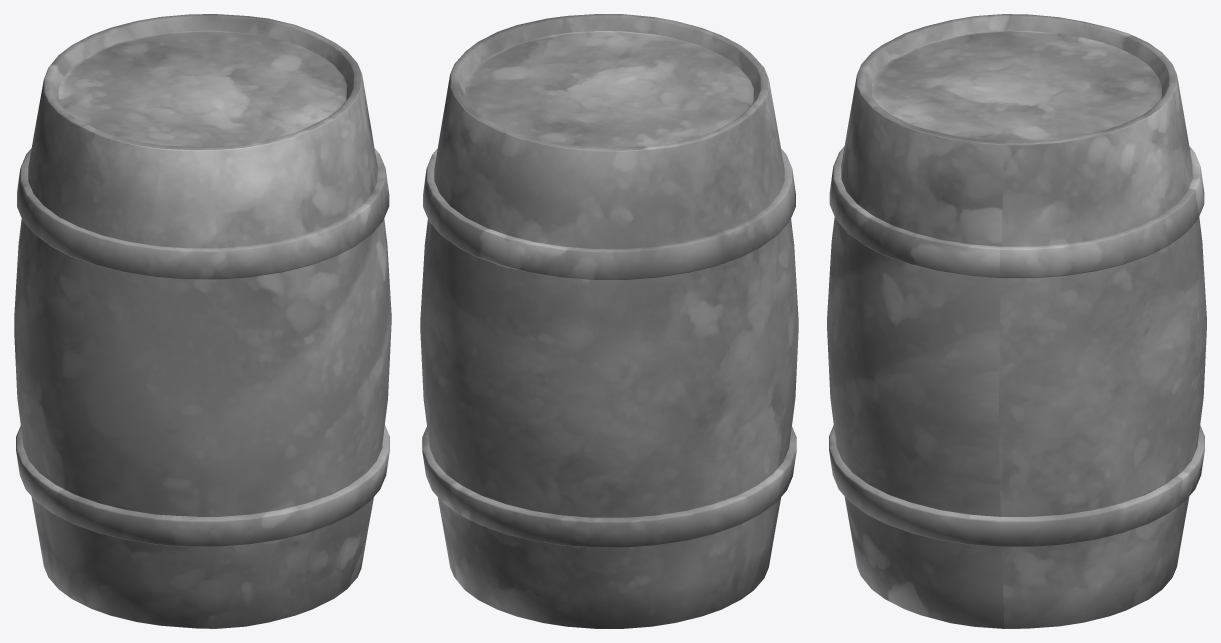
Rendered from SM_Barrel_02a.fbx.
3 views of the same model, side by side, from view 1: azimuth 30°, elevation 25°; view 2: azimuth 150°, elevation 25°; view 3: azimuth 270°, elevation 25° (orthographic).
Parts seen in each view (by area): view 1: SM_Barrel_02a_LOD0; view 2: SM_Barrel_02a_LOD0; view 3: SM_Barrel_02a_LOD0.
Part boxes in pixels (<box>): SM_Barrel_02a_LOD0: <box>14,14,391,628</box>; SM_Barrel_02a_LOD0: <box>420,14,798,628</box>; SM_Barrel_02a_LOD0: <box>827,14,1206,628</box>.
Size of the model in its own units: 79.54 by 79.64 by 112.
